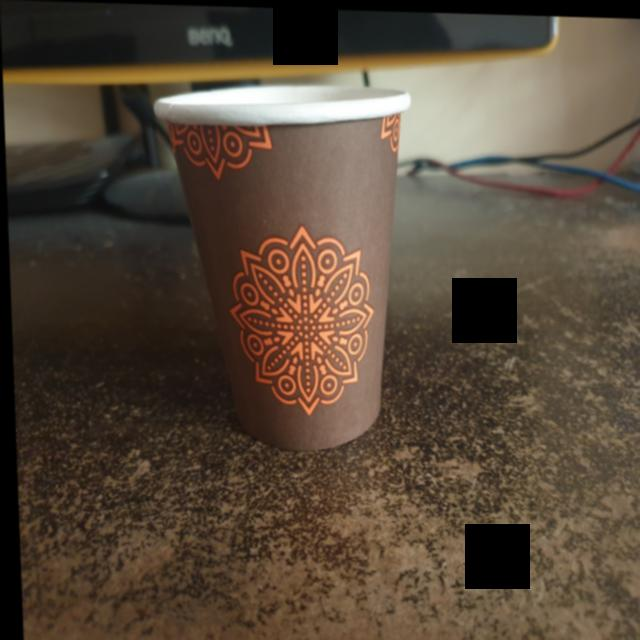cups: (149, 66, 435, 461)
